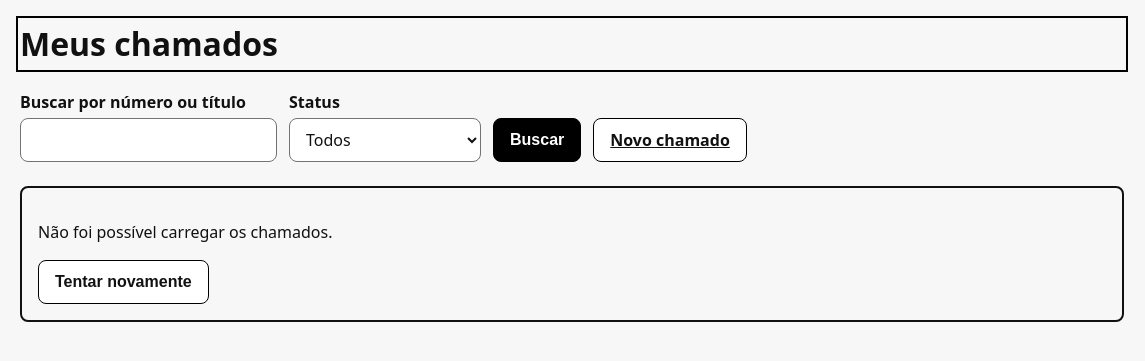
Test: TicketListPage › recovers from an error via the retry button
Check: the message shows "Não foi possível carregar", box [38, 221, 332, 243]
Click the button "Tentar novamente" at (123, 282), box [38, 260, 209, 304]
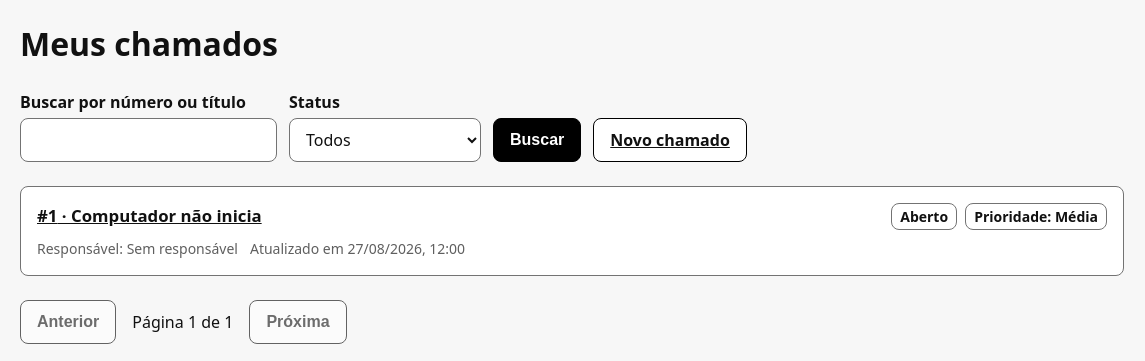
Check: the link "#1 · Computador não inicia" is shown, box [37, 204, 262, 227]
